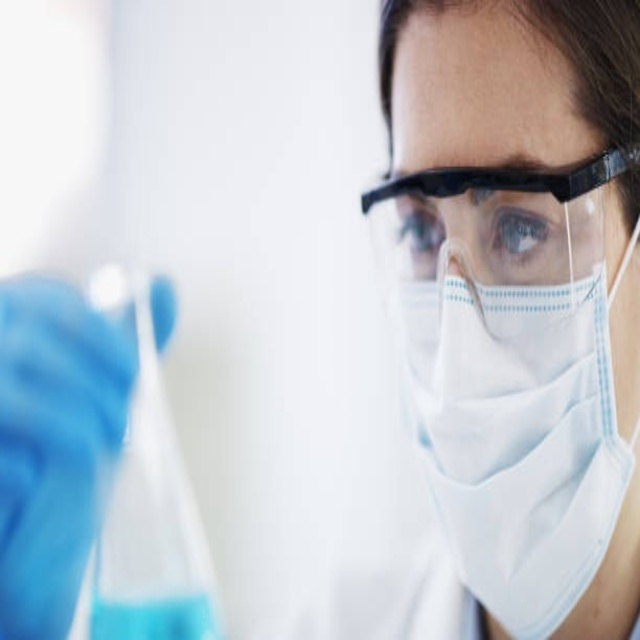Gafas: (353, 133, 634, 341)
Guantes: (1, 270, 168, 640)
Mascara: (386, 248, 632, 616)
